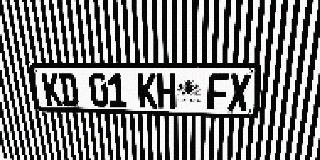0: (88, 73, 109, 107)
1: (106, 73, 126, 107)
D: (58, 73, 79, 106)
F: (207, 74, 229, 110)
H: (157, 73, 176, 109)
K: (137, 73, 157, 108), (42, 73, 63, 106)
X: (228, 74, 251, 111)
